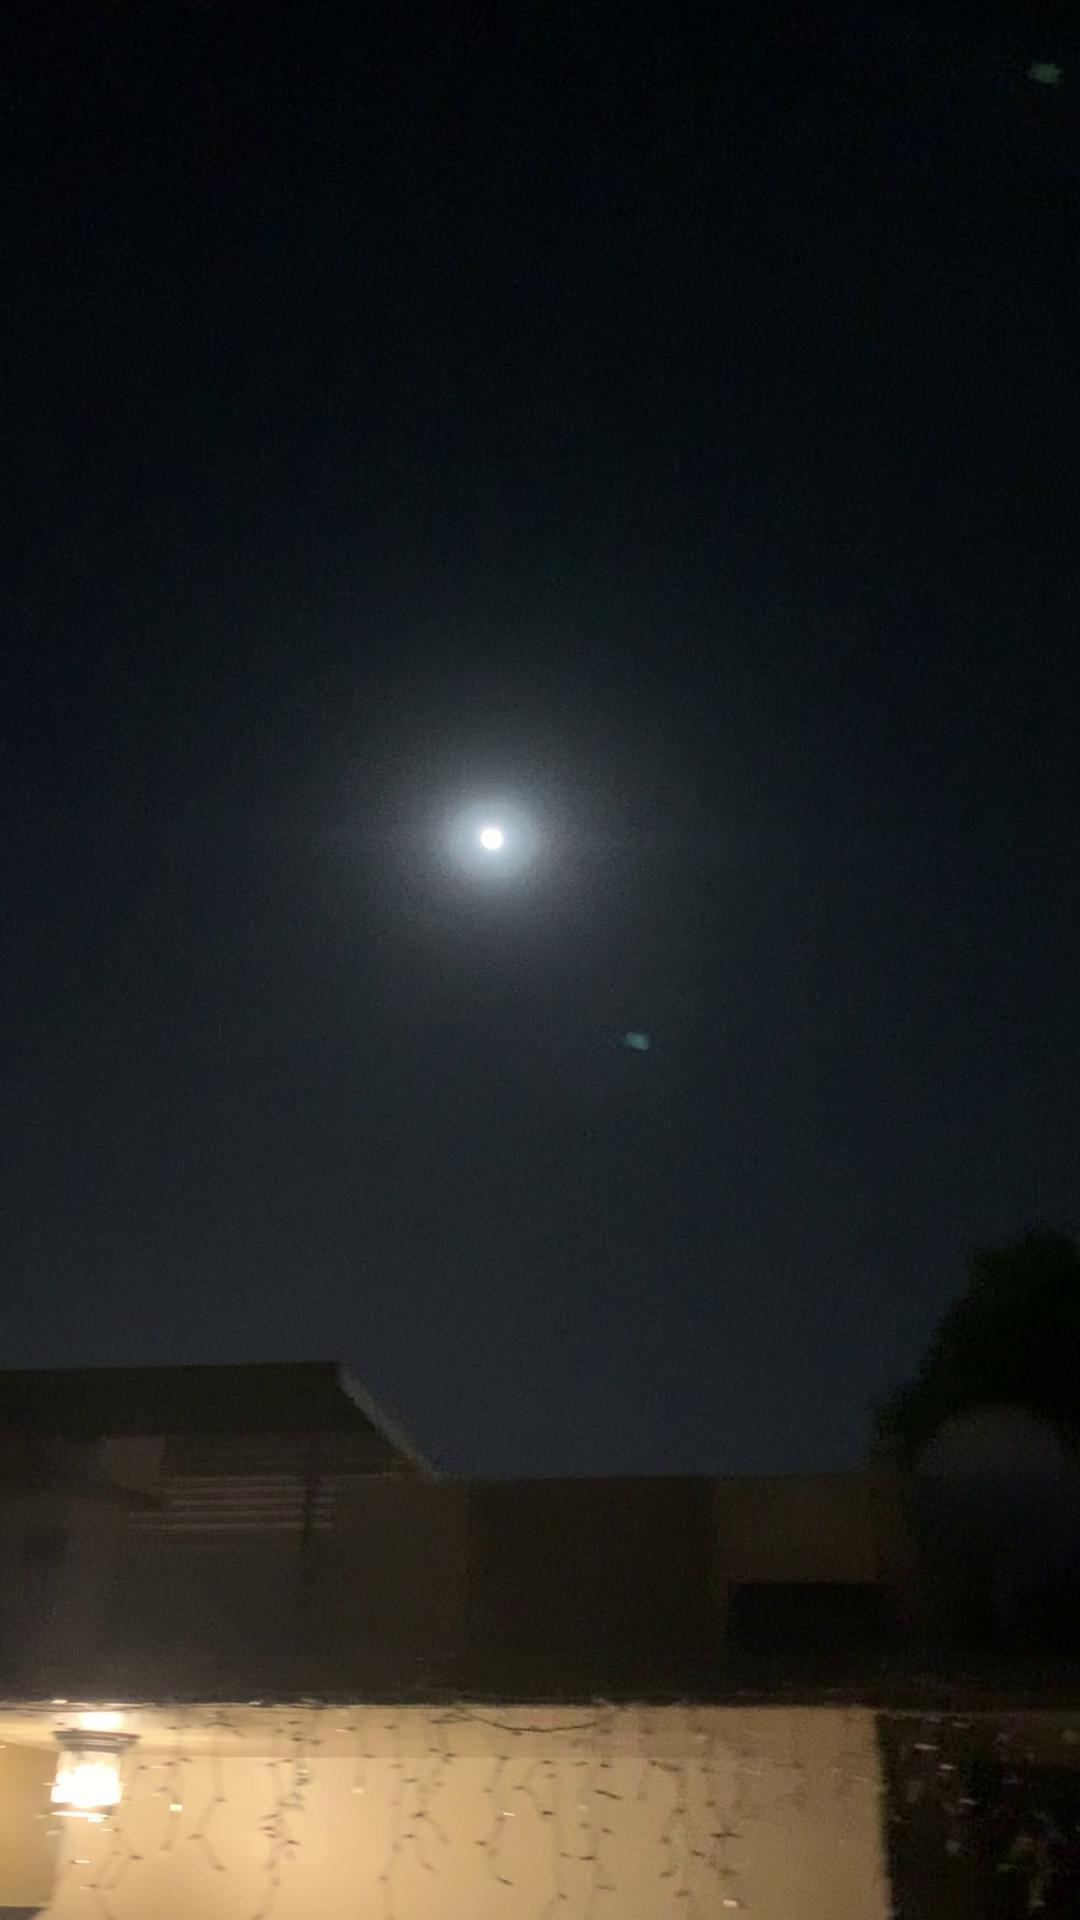moon: (446, 799, 533, 889)
